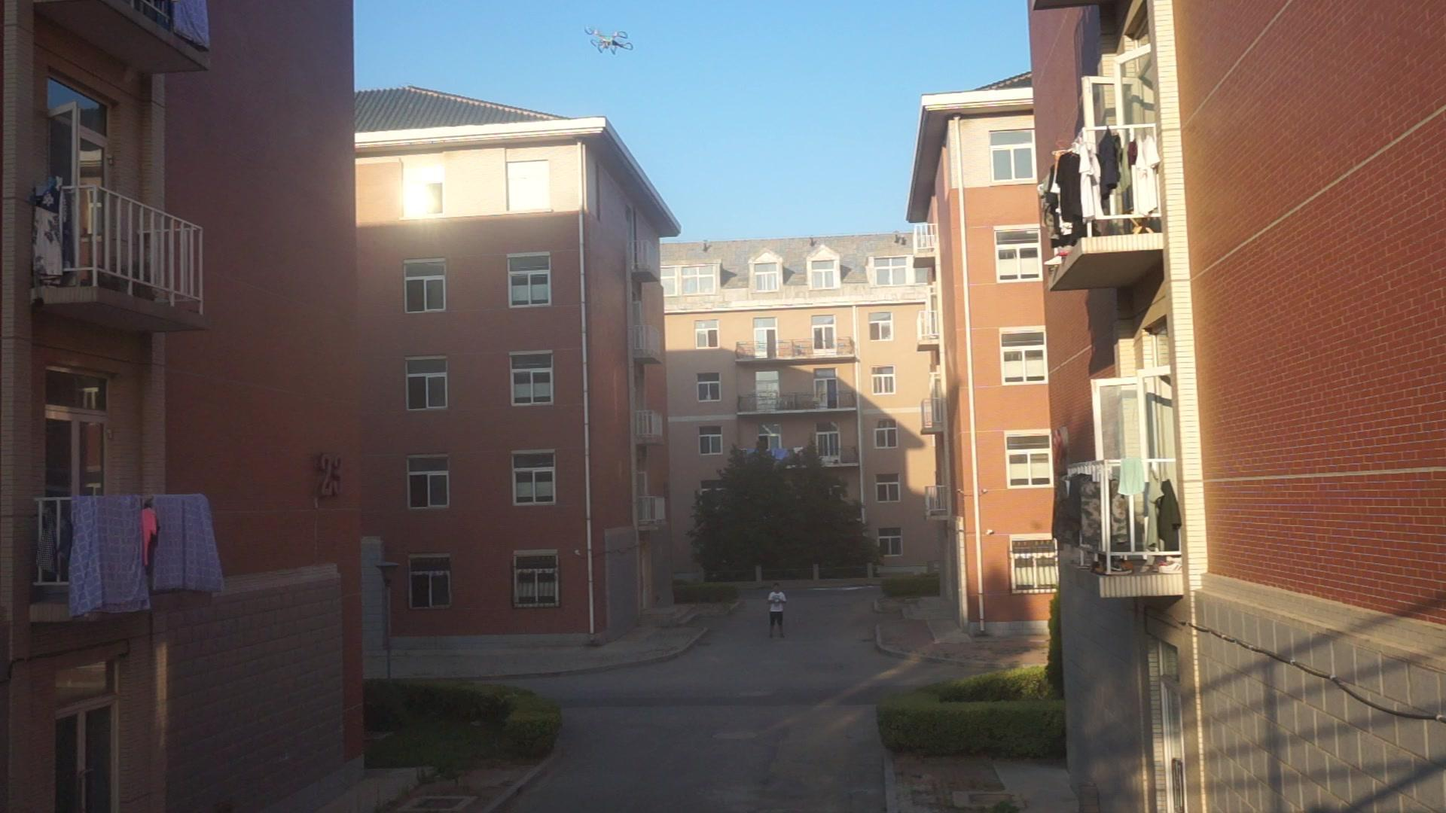UAV: (584, 26, 634, 55)
